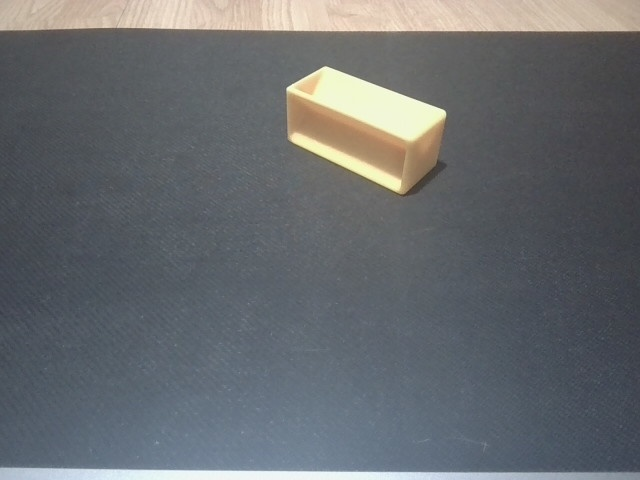YellowSample: (281, 62, 450, 201)
